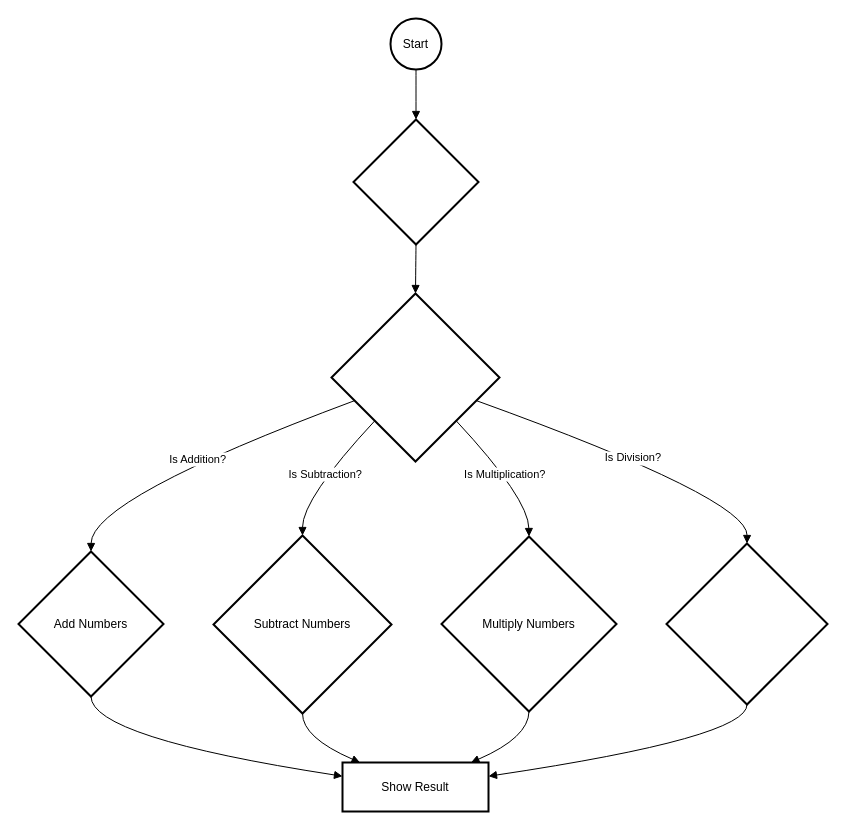
The diagram is 845 pixels wide and 829 high, and some of its shapes have lost their labels. The shapes that lost their labels are listed below. From the top down, each one's centre as x and y in pixels, then its label:
At point 415,181: "Input Data".
At point 415,377: "Check Operation".
At point 746,623: "Divide Numbers".
